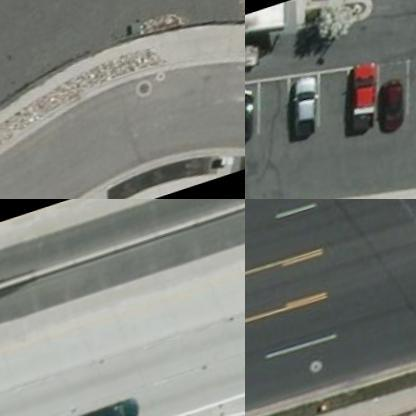car: (268, 69, 336, 150), (333, 63, 390, 139), (370, 80, 408, 138), (245, 90, 268, 157), (66, 396, 146, 415)
